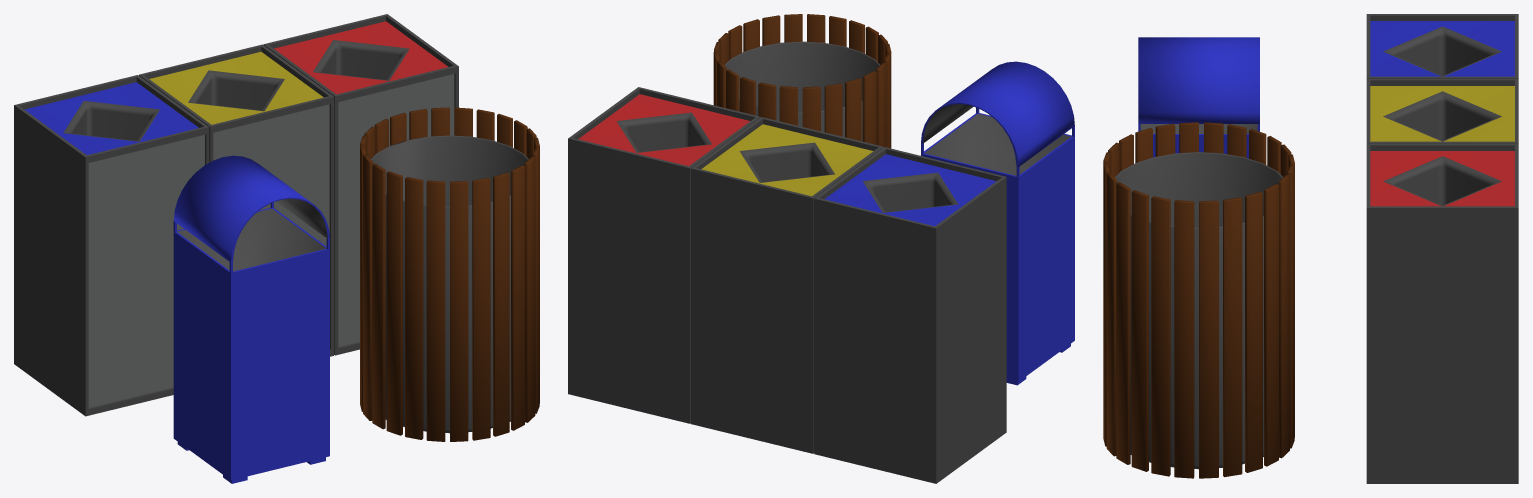
File: waste_bins.glb
The picture shows the model from 3 angles, left to right: view 1: azimuth 30°, elevation 25°; view 2: azimuth 150°, elevation 25°; view 3: azimuth 270°, elevation 25°; orthographic projection. The views are drawn at different scales.
Parts seen in each view (by area): view 1: Bin2_1, Bin1_2, Bin3_0; view 2: Bin2_1, Bin3_0, Bin1_2; view 3: Bin2_1, Bin1_2, Bin3_0.
Part boxes in pixels (<box>): Bin2_1: <box>14,14,458,416</box>; Bin1_2: <box>360,107,539,441</box>; Bin3_0: <box>173,155,329,483</box>; Bin2_1: <box>568,87,1006,483</box>; Bin3_0: <box>921,61,1074,385</box>; Bin1_2: <box>713,14,891,148</box>; Bin2_1: <box>1366,14,1518,483</box>; Bin1_2: <box>1103,122,1294,478</box>; Bin3_0: <box>1138,37,1259,158</box>.
Bounding box in the file's own units: 0.754 × 0.53 × 0.6824.
